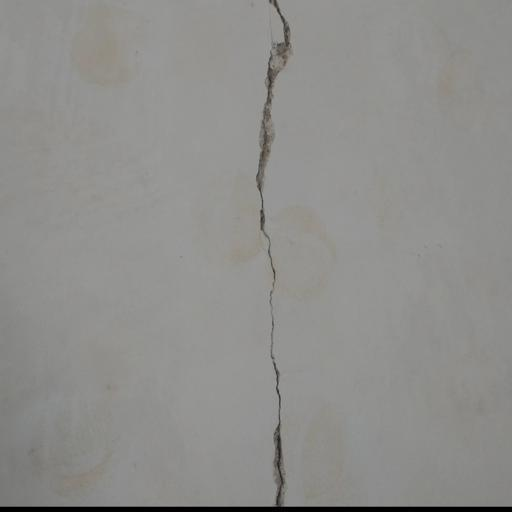major_crack: (251, 0, 313, 509)
